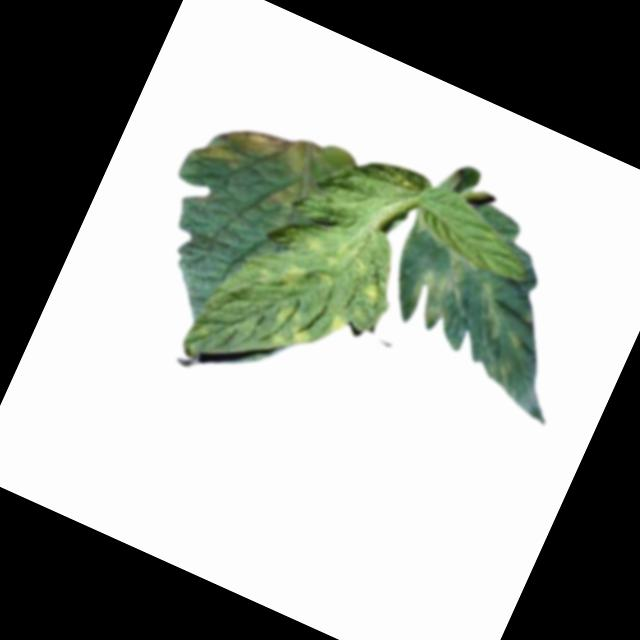Leaf_Mold: (399, 242, 478, 336), (218, 107, 317, 179), (263, 298, 323, 362), (191, 134, 246, 179), (267, 174, 312, 218), (276, 258, 311, 295), (356, 279, 385, 310), (301, 233, 328, 261), (327, 311, 349, 338)
